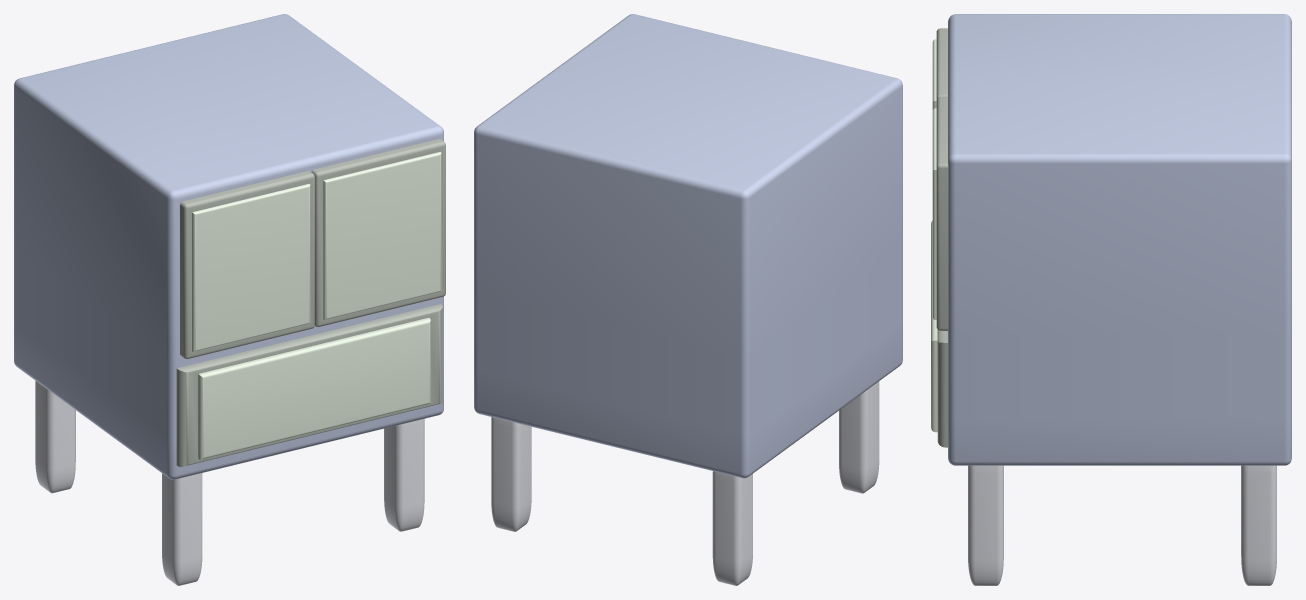
Rendered from Chest.fbx.
The picture shows the model from 3 angles, left to right: view 1: azimuth 30°, elevation 25°; view 2: azimuth 150°, elevation 25°; view 3: azimuth 270°, elevation 25°; orthographic projection. The views are drawn at different scales.
Parts seen in each view (by area): view 1: chest; view 2: chest; view 3: chest.
Part boxes in pixels (left/top/right/bottom): chest: left=14, top=14, right=445, bottom=585; chest: left=474, top=14, right=902, bottom=585; chest: left=931, top=14, right=1291, bottom=585.
Bounding box in the file's own units: 64.09 × 90.02 × 67.26.
1 material, 1 textured.
